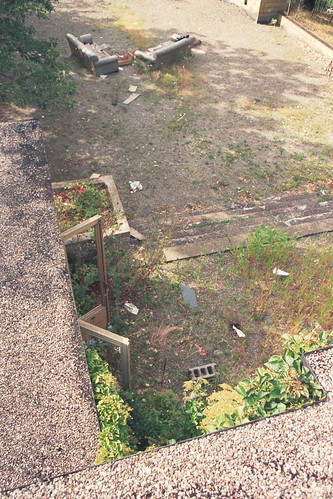couch: (60, 22, 122, 75), (128, 19, 190, 72)
door: (47, 225, 139, 393)
